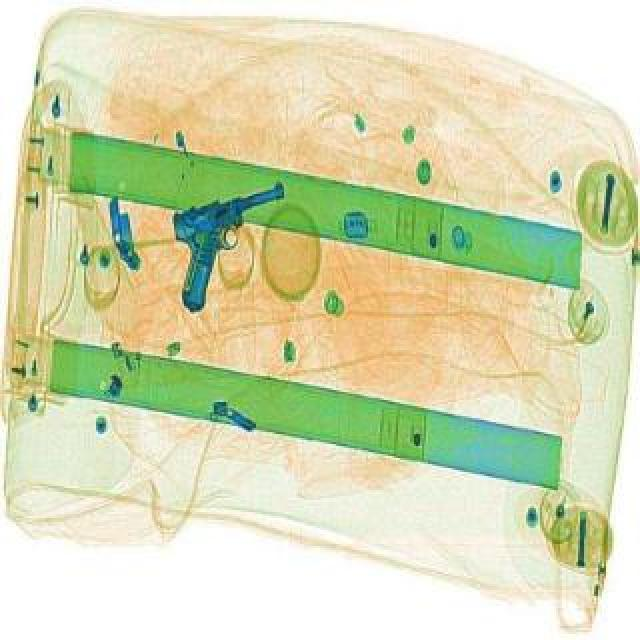gun: (152, 178, 316, 312)
